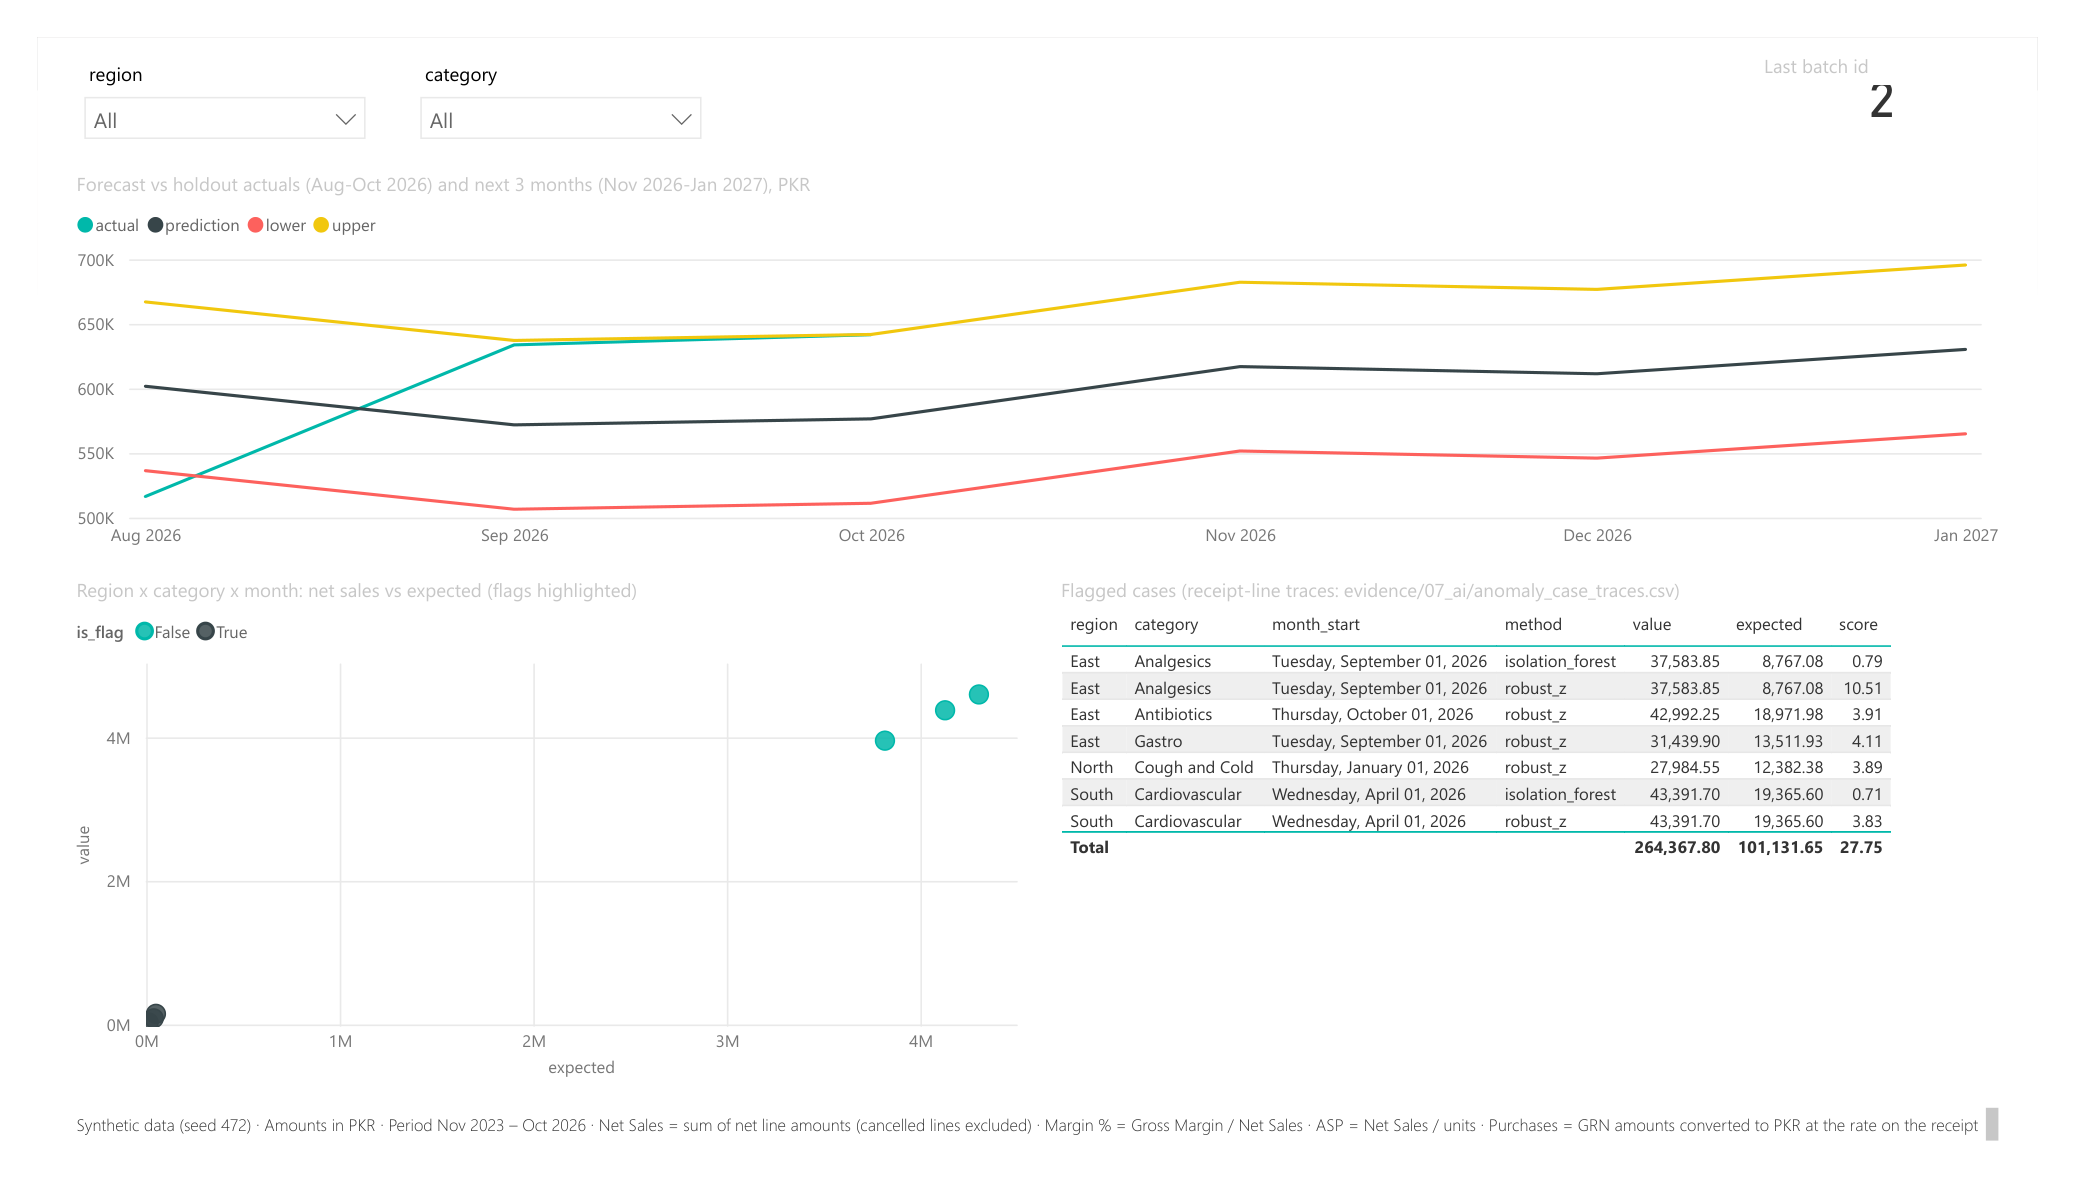

What the dashboard file says about the page in this screenshot:
{"tool":"powerbi","page":{"name":"AI Insights","canvas":[1280,720],"ordinal":2},"visuals":[{"type":"slicer","fields":{"Values":["Anomaly.region"]},"box":[20,10,200,60],"z":0},{"type":"slicer","fields":{"Values":["Anomaly.category"]},"box":[235,10,200,60],"z":0},{"type":"card","title":"Last batch id","fields":{"Values":["Sales.Last Batch"]},"box":[1100,10,160,60],"z":0},{"type":"lineChart","title":"Forecast vs holdout actuals (Aug-Oct 2026) and next 3 months (Nov 2026-Jan 2027), PKR","fields":{"Category":["Forecast.month_start"],"Y":["Sum(Forecast.actual)","Sum(Forecast.prediction)","Sum(Forecast.lower)","Sum(Forecast.upper)"]},"box":[20,85,1240,250],"z":0},{"type":"scatterChart","title":"Region x category x month: net sales vs expected (flags highlighted)","fields":{"Category":["Anomaly.region","Anomaly.category","Anomaly.month_start"],"Series":["Anomaly.is_flag"],"X":["Sum(Anomaly.expected)"],"Y":["Sum(Anomaly.value)"]},"box":[20,345,620,325],"z":0},{"type":"tableEx","title":"Flagged cases (receipt-line traces: evidence/07_ai/anomaly_case_traces.csv)","fields":{"Values":["Anomaly.region","Anomaly.category","Anomaly.month_start","Anomaly.method","Sum(Anomaly.value)","Sum(Anomaly.expected)","Sum(Anomaly.score)"]},"box":[650,345,610,325],"z":0},{"type":"textbox","box":[20,680,1240,34],"z":0}]}

Visuals, with their boxes on the page's 1280x720 design canvas (x1, y1, x2, y2). These are canvas units, not pixel positions in the 2075x1200 screenshot, which may show the page scaled, cropped or inside an application window:
slicer - Anomaly.region: [x1=20, y1=10, x2=220, y2=70]
slicer - Anomaly.category: [x1=235, y1=10, x2=435, y2=70]
"Last batch id" card: [x1=1100, y1=10, x2=1260, y2=70]
"Forecast vs holdout actuals (Aug-Oct 2026) and next 3 months (Nov 2026-Jan 2027), PKR" lineChart: [x1=20, y1=85, x2=1260, y2=335]
"Region x category x month: net sales vs expected (flags highlighted)" scatterChart: [x1=20, y1=345, x2=640, y2=670]
"Flagged cases (receipt-line traces: evidence/07_ai/anomaly_case_traces.csv)" tableEx: [x1=650, y1=345, x2=1260, y2=670]
textbox: [x1=20, y1=680, x2=1260, y2=714]
